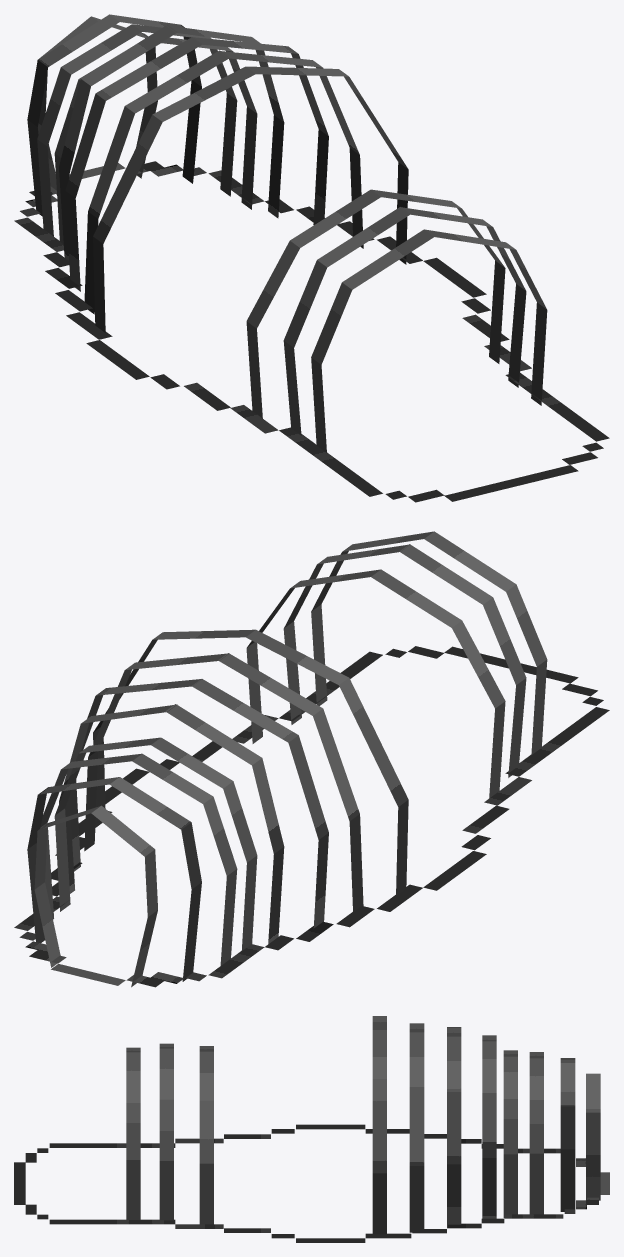
File: soulcage_747x2.gltf
3 views of the same model, one above another, from view 1: azimuth 30°, elevation 25°; view 2: azimuth 150°, elevation 25°; view 3: azimuth 270°, elevation 25° (orthographic). The views are drawn at different scales.
Parts seen in each view (by area): view 1: soulcage_747x2.001; view 2: soulcage_747x2.001; view 3: soulcage_747x2.001.
Boxes of the visible parts, box(x1,y1,x2,y2) form: soulcage_747x2.001: box(14, 14, 609, 502); soulcage_747x2.001: box(14, 531, 609, 987); soulcage_747x2.001: box(14, 1016, 609, 1242).
Bounding box in the file's own units: 2.61 × 1.62 × 5.56.
1 material, 1 textured.
